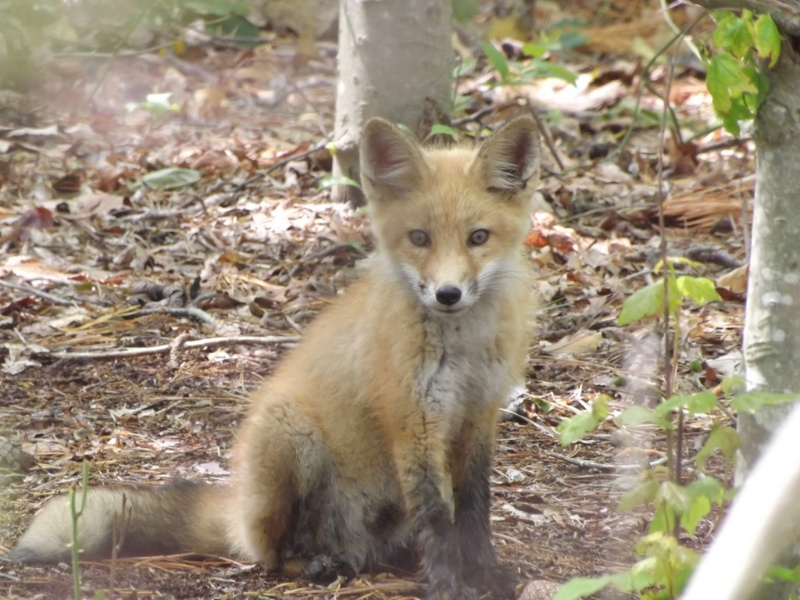fox: (28, 105, 561, 598)
